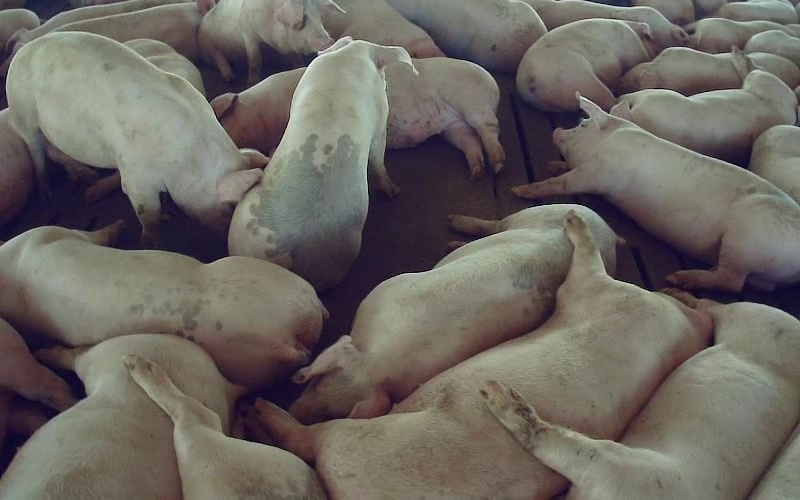pig: (247, 214, 710, 499), (290, 205, 616, 422), (482, 304, 799, 499), (513, 97, 799, 291), (6, 32, 263, 244), (228, 37, 410, 288), (0, 335, 245, 499), (126, 356, 325, 499), (386, 57, 504, 178), (517, 18, 654, 110), (198, 0, 342, 85), (389, 0, 546, 71), (615, 47, 799, 95), (524, 0, 687, 49), (323, 0, 444, 57)
